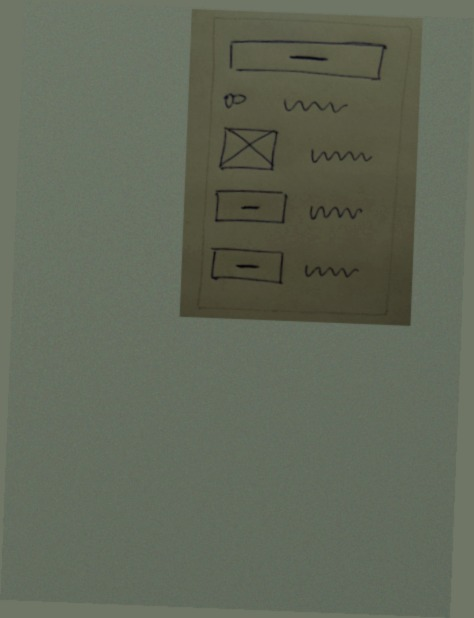button: (225, 35, 388, 85), (211, 185, 290, 229), (209, 243, 288, 287)
image: (214, 124, 281, 177)
switch: (215, 89, 258, 115)
text: (301, 199, 372, 225), (296, 257, 367, 282), (280, 93, 350, 118), (305, 143, 375, 168)
